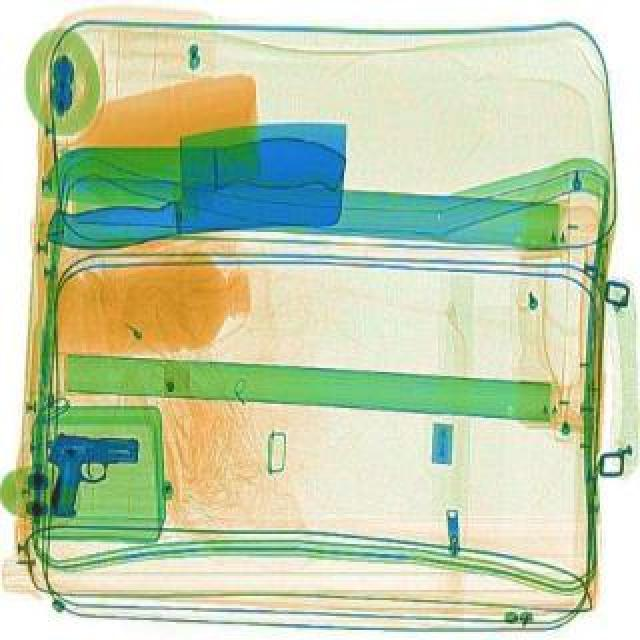gun: (44, 430, 138, 518)
knife: (38, 114, 354, 254), (34, 136, 346, 204)
